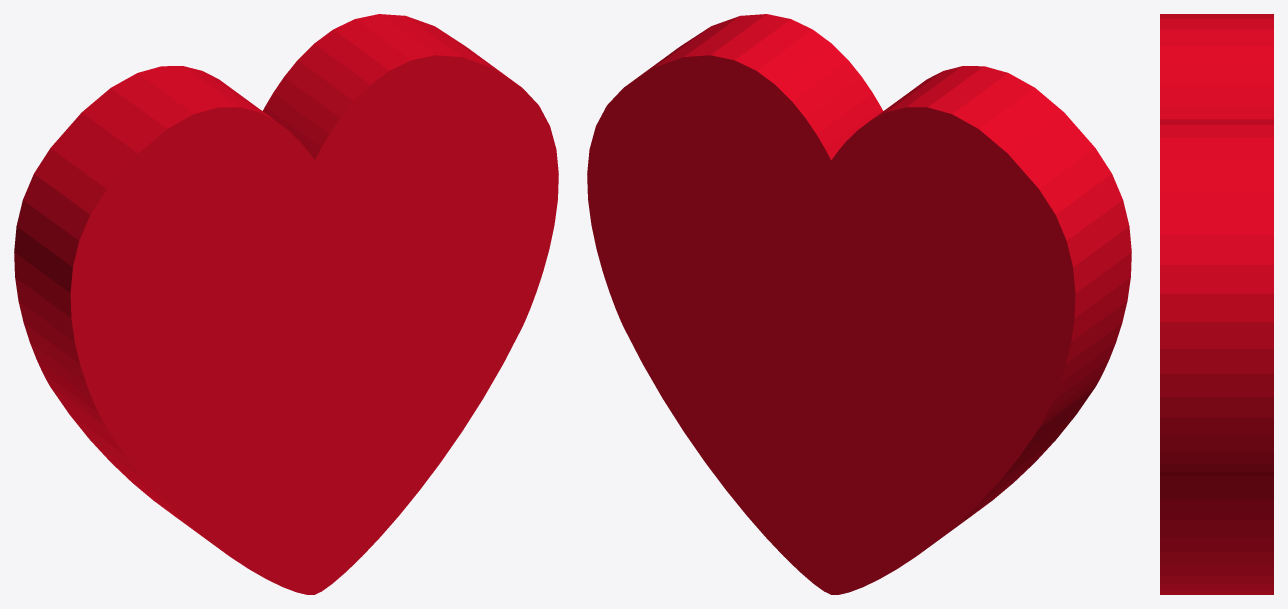
Rendered from Heart.fbx.
3 renders of one model, left to right at view 1: azimuth 30°, elevation 25°; view 2: azimuth 150°, elevation 25°; view 3: azimuth 270°, elevation 25°, orthographic.
Parts seen in each view (by area): view 1: Heart; view 2: Heart; view 3: Heart.
Boxes of the visible parts, x1,y1,x2,y2 form: Heart: (14,14,558,594); Heart: (587,14,1131,594); Heart: (1160,14,1273,594).
Size of the model in its own units: 50 by 50 by 10.
